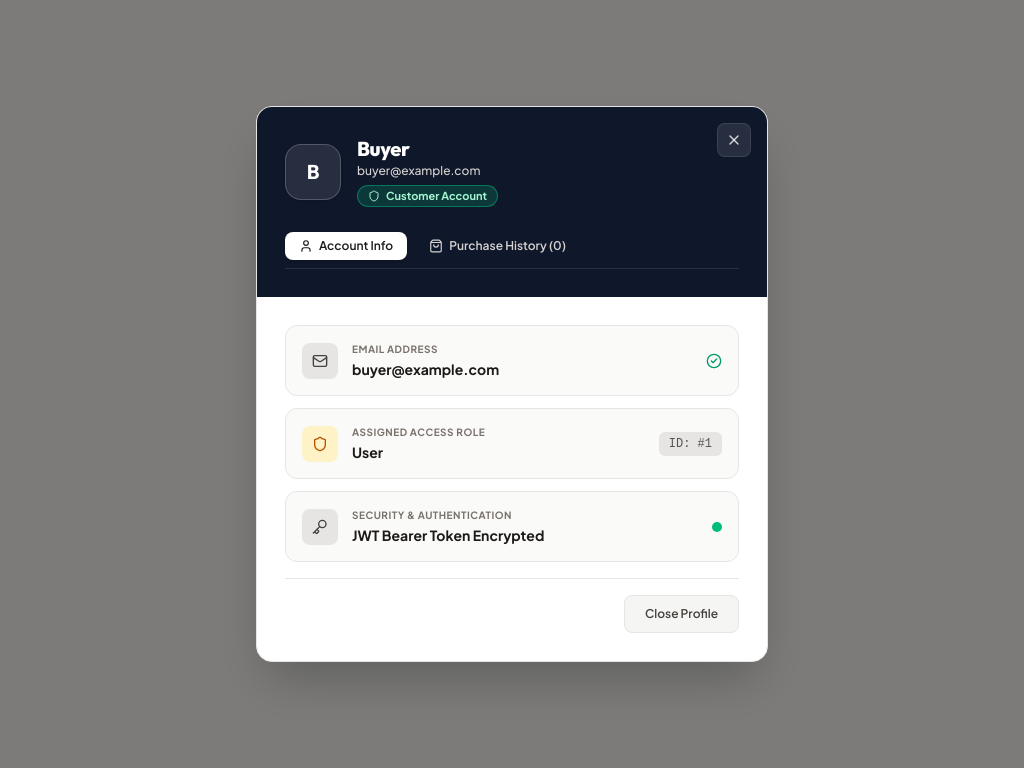
Purchase History & Checkout Form Flow › renders user purchase history in ProfileModal
Click the button "Purchase History (0)": (498, 246) [415,232,580,260]
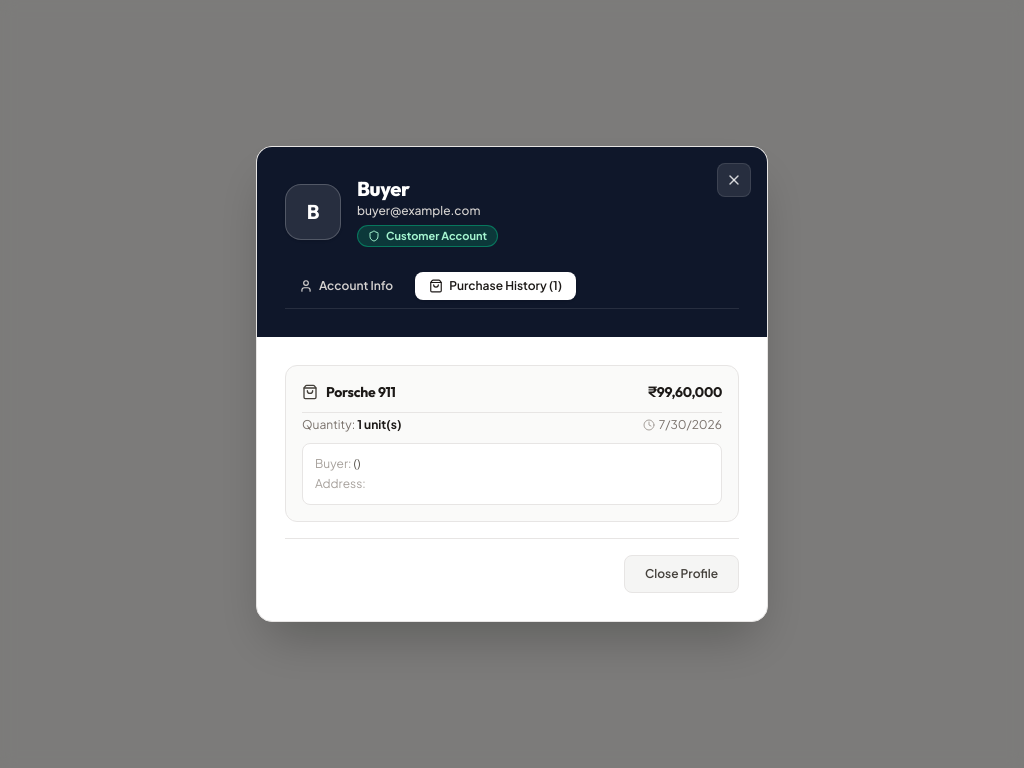
Expected: the heading "Porsche 911" is shown, [326,382,396,402]
